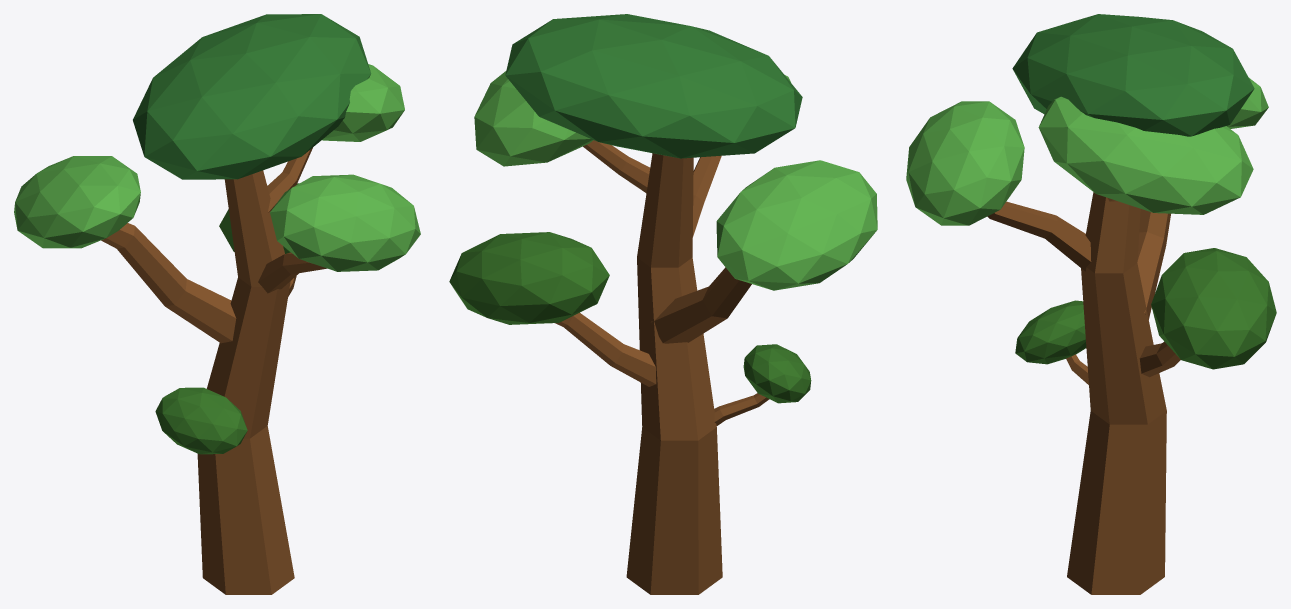
File: Boom_2_AlexBlok.fbx
The picture shows the model from 3 angles, left to right: view 1: azimuth 30°, elevation 25°; view 2: azimuth 150°, elevation 25°; view 3: azimuth 270°, elevation 25°; orthographic projection. The views are drawn at different scales.
Parts seen in each view (by area): view 1: Icosphere; view 2: Icosphere; view 3: Icosphere.
Part boxes in pixels (x1,y1,x2,y2): Icosphere: (14, 14, 420, 594); Icosphere: (449, 14, 877, 594); Icosphere: (906, 14, 1276, 594).
Size of the model in its own units: 788 by 1088 by 657.
